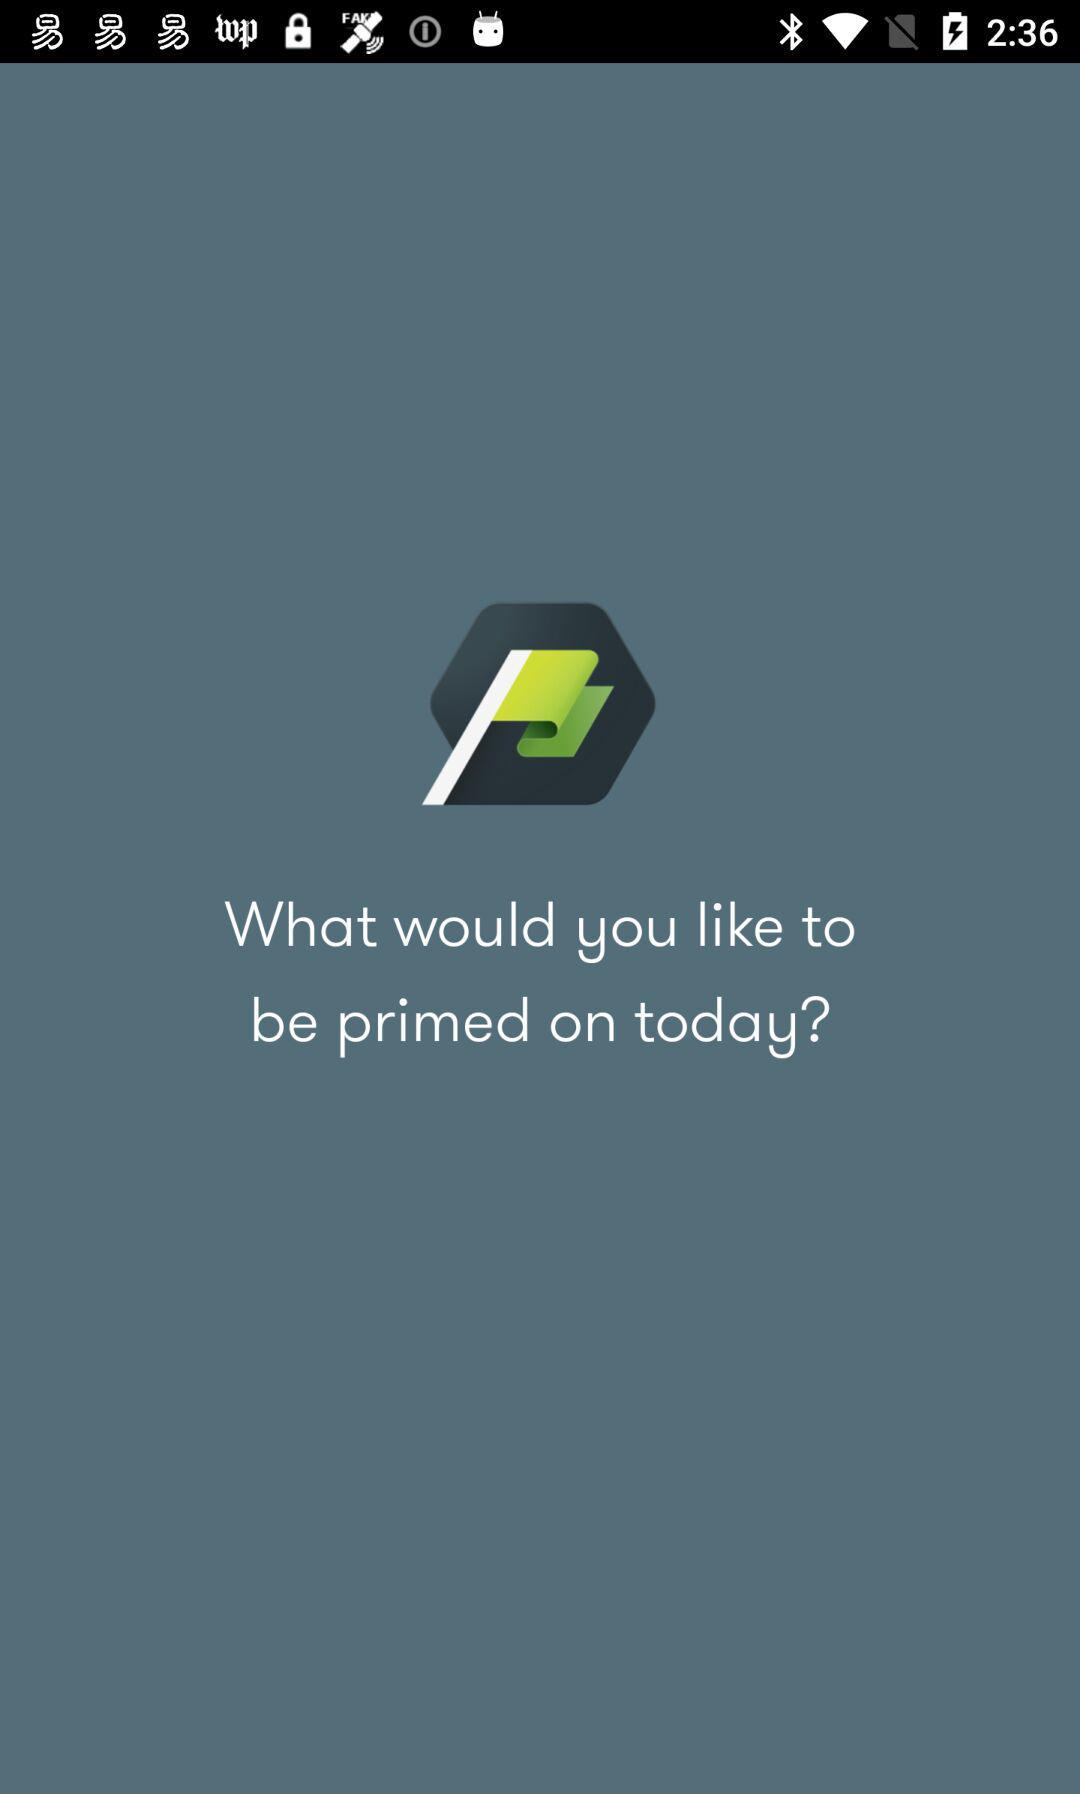Image: (420, 601, 659, 809)
Text: (220, 897, 857, 1062)
UpperTaskBar: (1, 1, 1080, 64)
